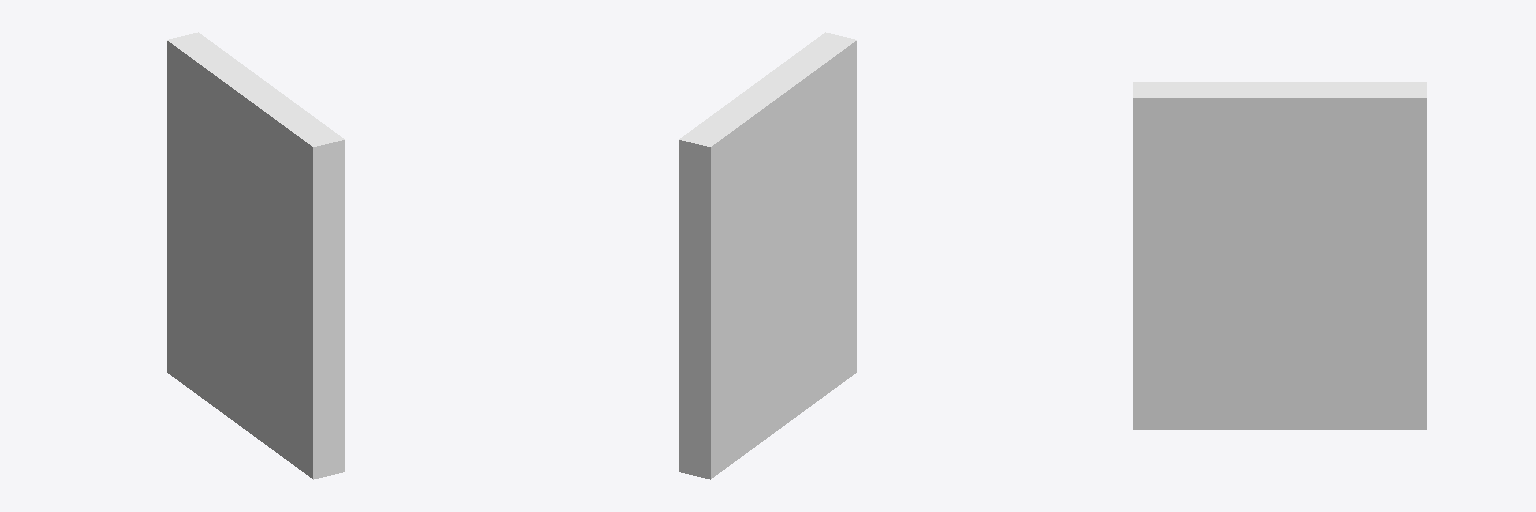
Rendered from painting:blue-left.obj.
The picture shows the model from 3 angles: view 1: azimuth 30°, elevation 25°; view 2: azimuth 150°, elevation 25°; view 3: azimuth 270°, elevation 25°; orthographic projection.
Parts seen in each view (by area): view 1: painting:blue-left; view 2: painting:blue-left; view 3: painting:blue-left.
Boxes of the visible parts, x1,y1,x2,y2 form: painting:blue-left: [167, 32, 344, 479]; painting:blue-left: [679, 32, 856, 479]; painting:blue-left: [1133, 82, 1426, 429].
Bounding box in the file's own units: 1 × 10 × 8.